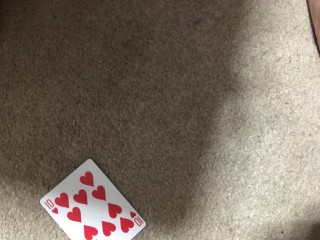TenOfHearts: (40, 159, 145, 240)
